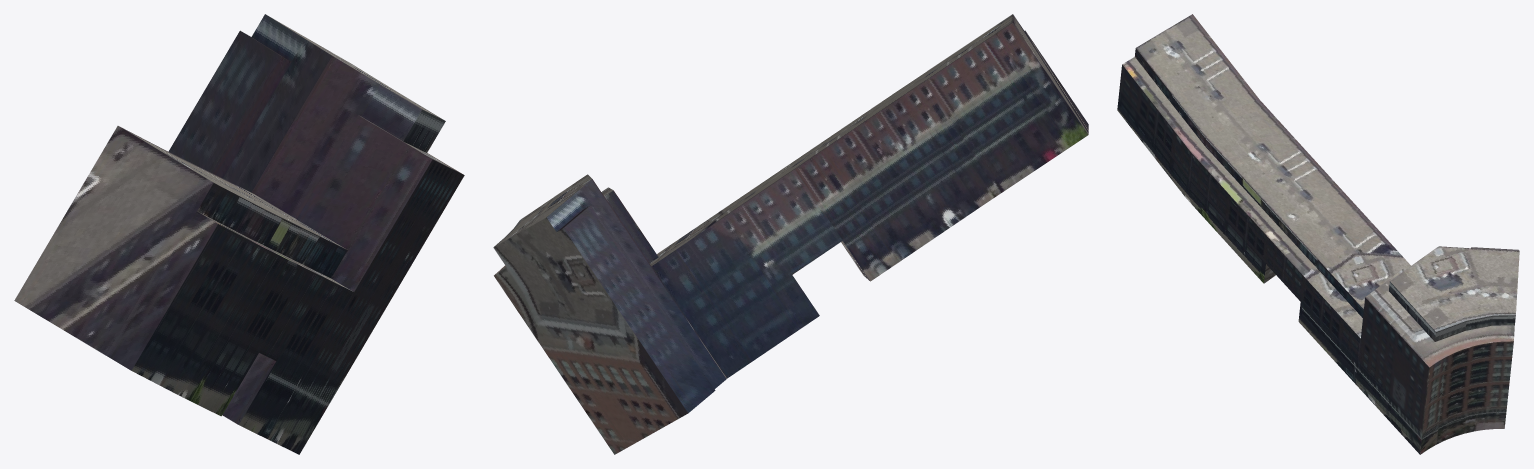
3 views of the same model, side by side, from view 1: azimuth 30°, elevation 25°; view 2: azimuth 150°, elevation 25°; view 3: azimuth 270°, elevation 25° (orthographic). The views are drawn at different scales.
Visible parts, largest first — view 1: BAG_0599100000750038 (×2); view 2: BAG_0599100000750038 (×2); view 3: BAG_0599100000750038 (×2).
Boxes of the visible parts, left/top/right/bottom form: BAG_0599100000750038 (×2): left=14, top=14, right=464, bottom=454; BAG_0599100000750038 (×2): left=493, top=14, right=1088, bottom=454; BAG_0599100000750038 (×2): left=1117, top=14, right=1519, bottom=454.
Bounding box in the file's own units: 68.33 × 55.92 × 61.27.
Materials: 3 (2 with a texture image).
